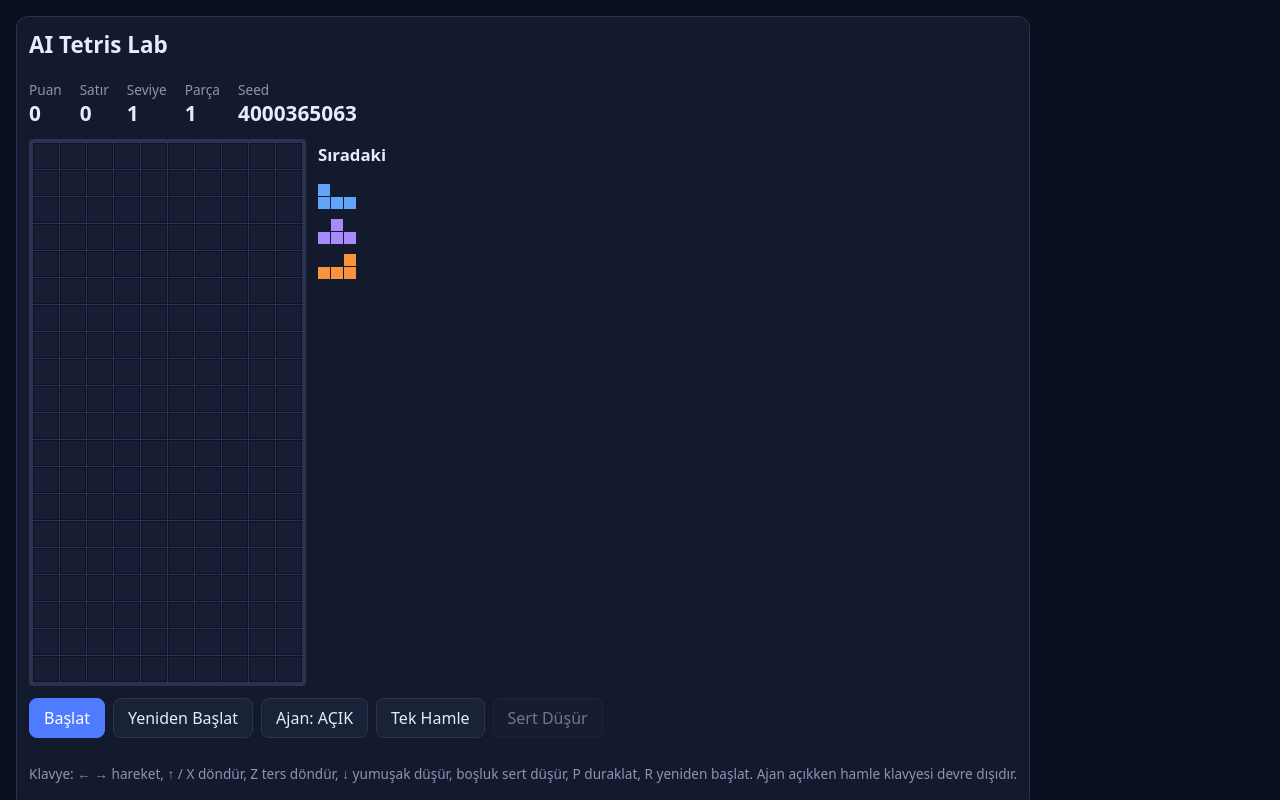
Scenario: App — karar paneli ve eksik veri durumları › Tek Hamle düğmesi ajanla karar kaydı üretir
Click the button with test id "step". click: (430, 718)
box: [376, 698, 485, 738]
(page scrolled)
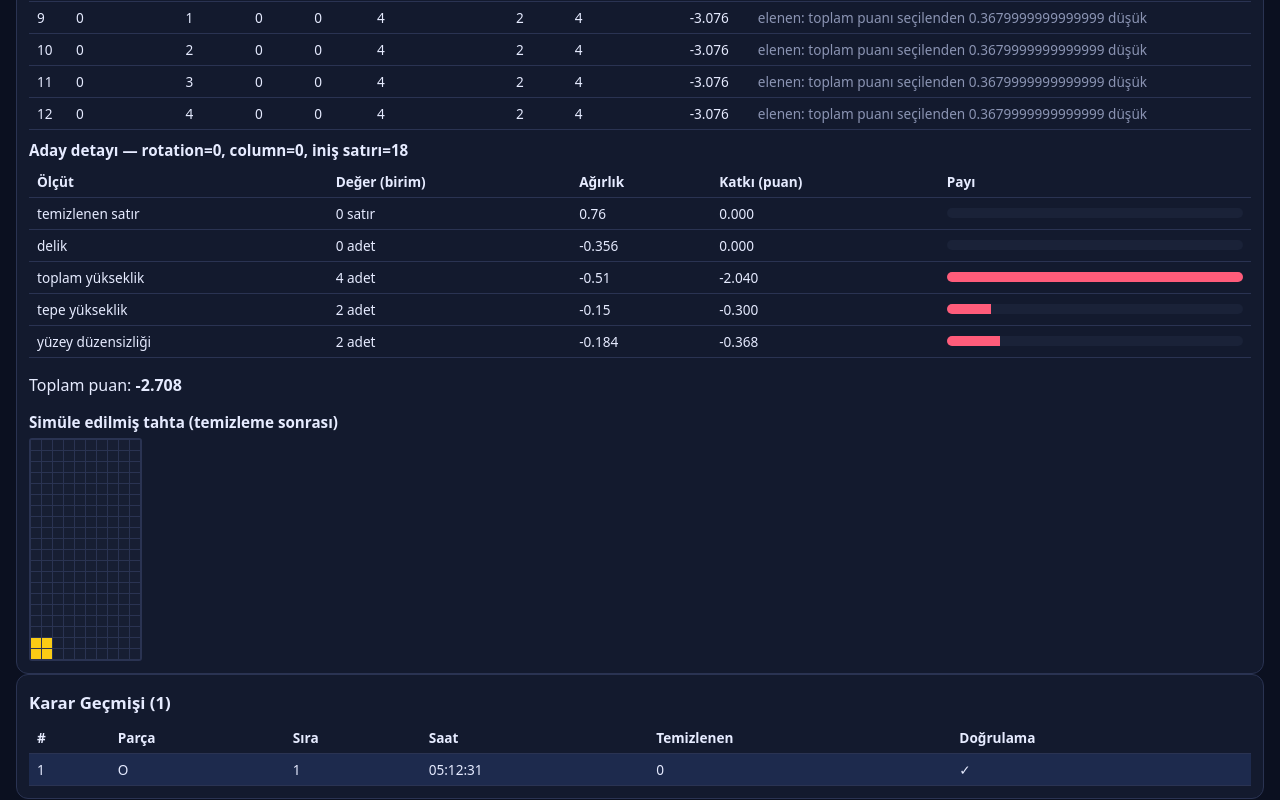
Check: the element with test id "candidate-detail" is shown
